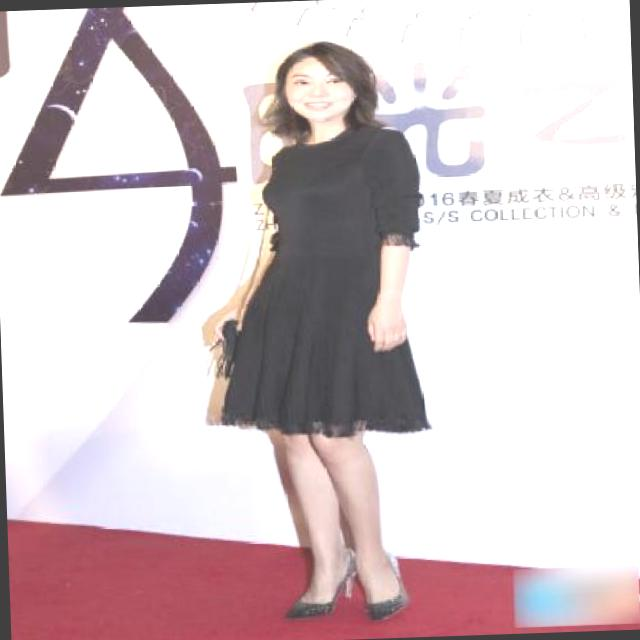Person: (151, 26, 524, 640)
